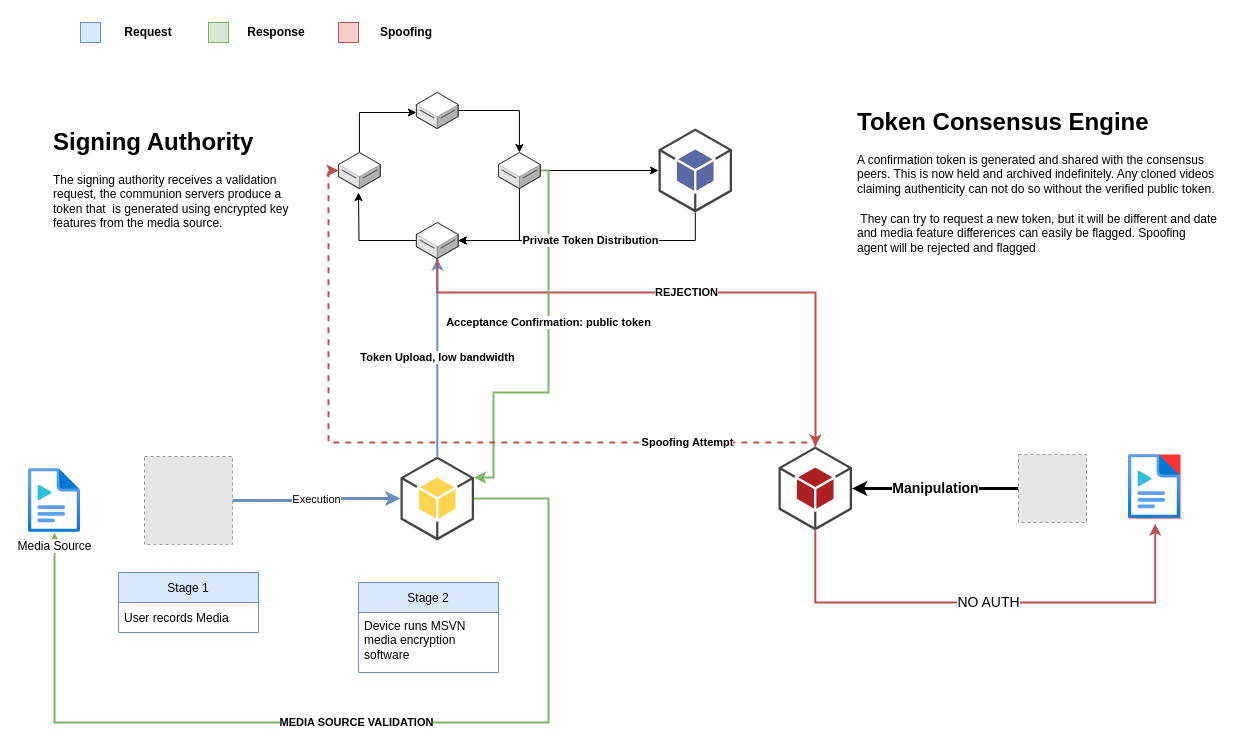
The diagram is 1239 pixels wide and 748 high, and some of its shapes have lost their labels. Grey dashed boxes stand in for pictures. The shapes that lost their labels are listed below. From the top down, each one's centre as x and y in pixels, then its label:
At pixel 437 498: "Real Time Validation Softare".
At pixel 1154 486: "DEEP FAKE CLONE".
